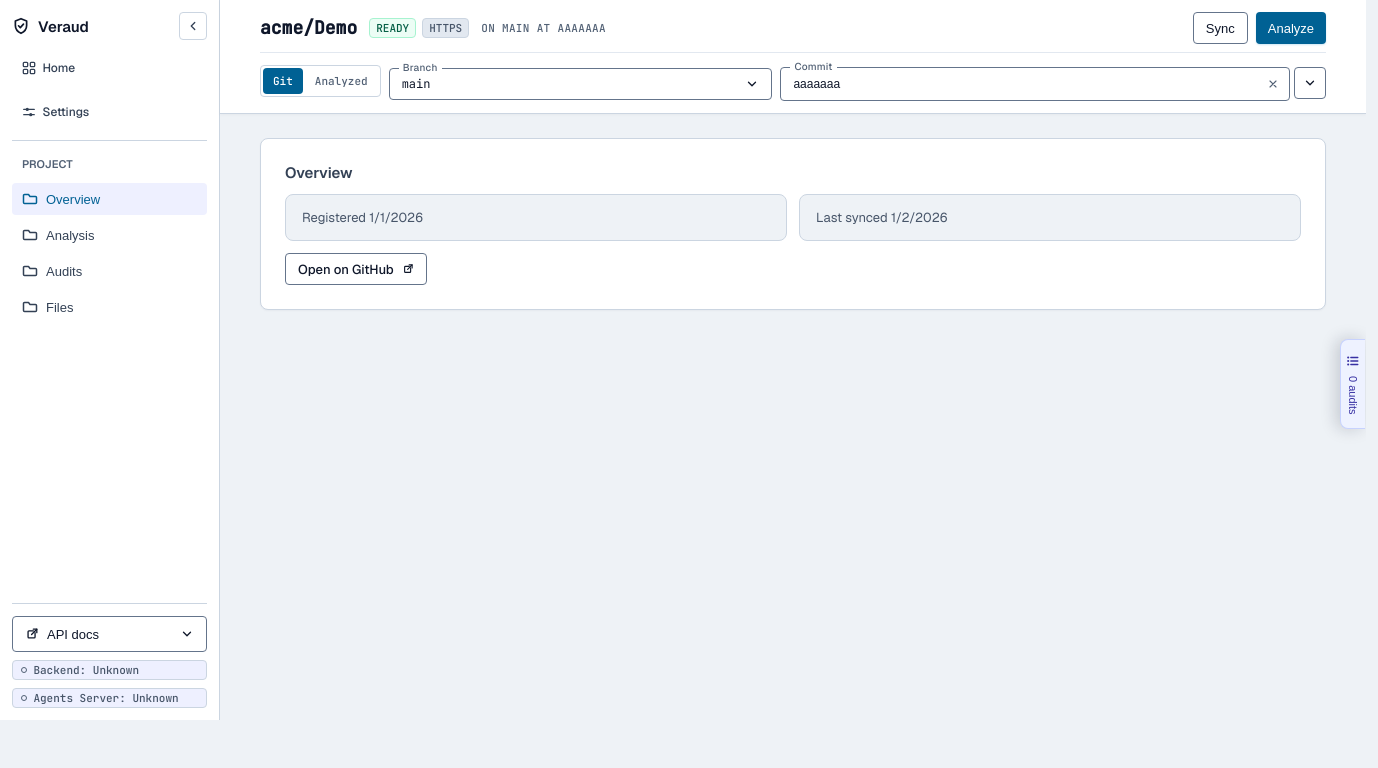
Scenario: ProjectDetailPage › shows the sync error and re-enables the button
Expected: the heading "acme/Demo" is shown, [260,16,357,40]
Click the button "Sync": point(1220, 28) [1193,12,1248,44]
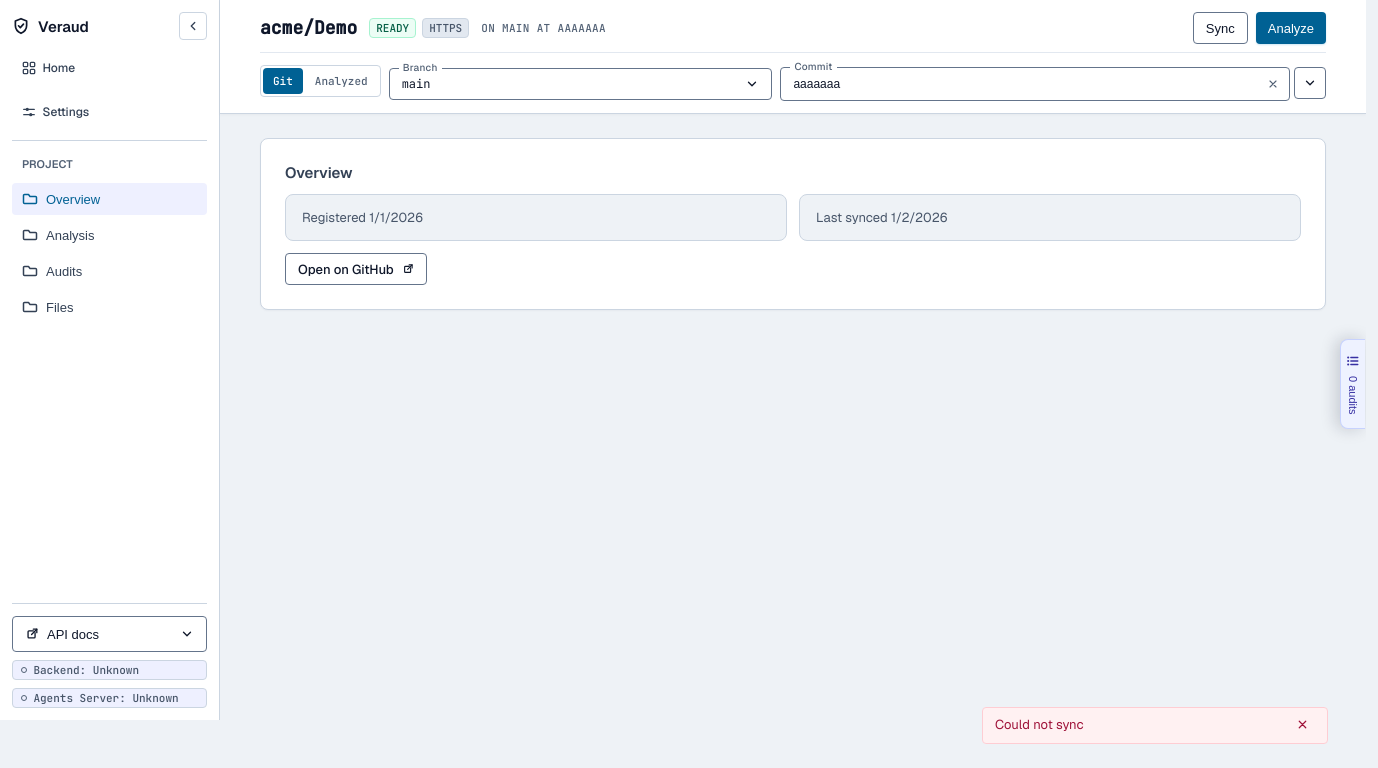
Expected: the message "Could not sync" is shown, [982,707,1328,744]
Expected: the text "Could not sync" is shown, [995,716,1084,733]
